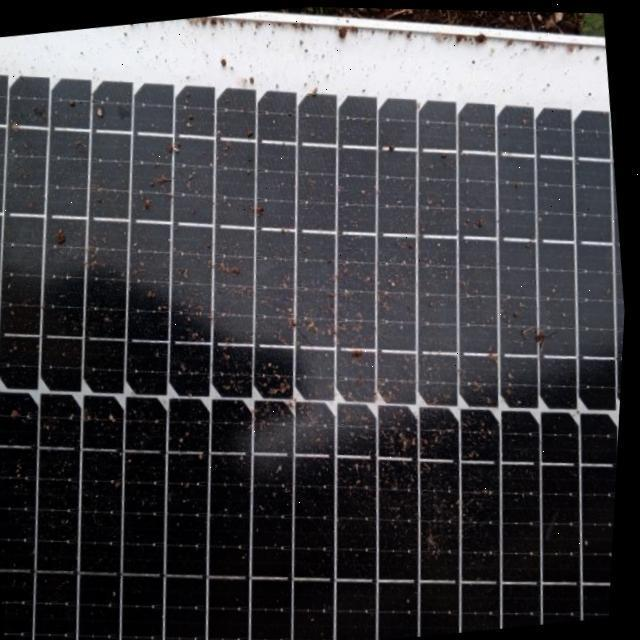Anomaly Solar Panel: (0, 40, 638, 640)
Surface Contaminant: (0, 83, 628, 640)
